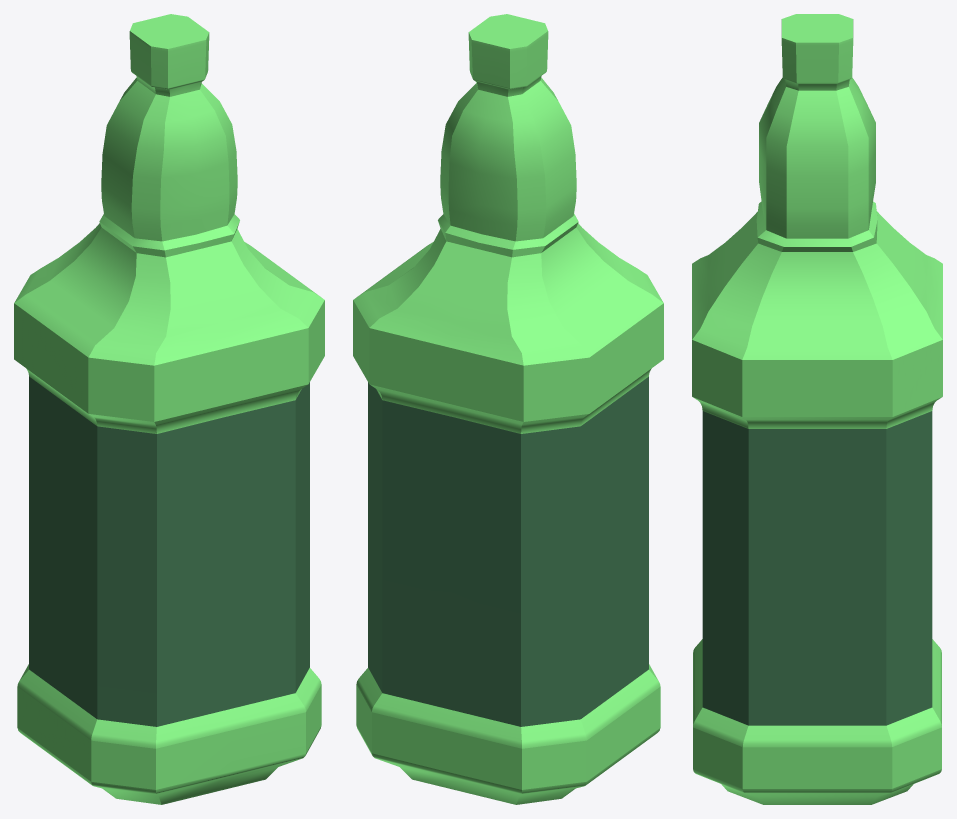
Rendered from bouteille.fbx.
The picture shows the model from 3 angles, left to right: view 1: azimuth 30°, elevation 25°; view 2: azimuth 150°, elevation 25°; view 3: azimuth 270°, elevation 25°; orthographic projection.
Parts seen in each view (by area): view 1: pCube1; view 2: pCube1; view 3: pCube1.
Boxes of the visible parts, left/top/right/bottom form: pCube1: left=14, top=14, right=324, bottom=804; pCube1: left=353, top=14, right=663, bottom=804; pCube1: left=692, top=14, right=942, bottom=804.
Bounding box in the file's own units: 1.35 × 3.98 × 1.23.
